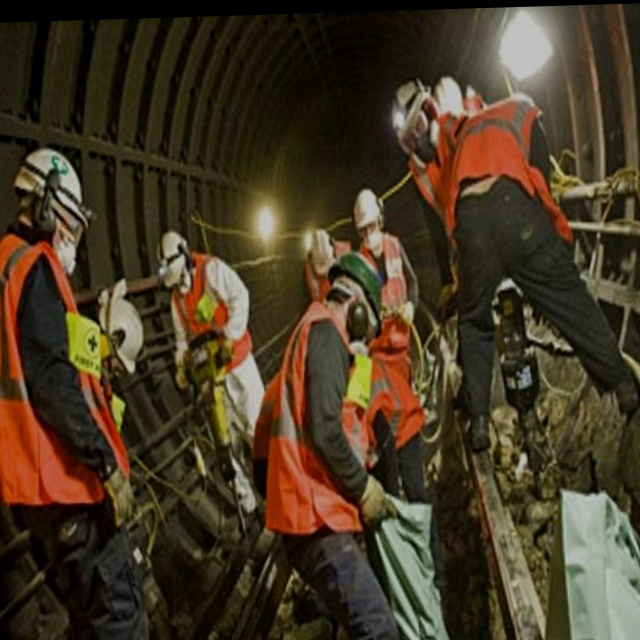Con_Chaleco: (0, 244, 119, 495), (265, 310, 372, 528)
